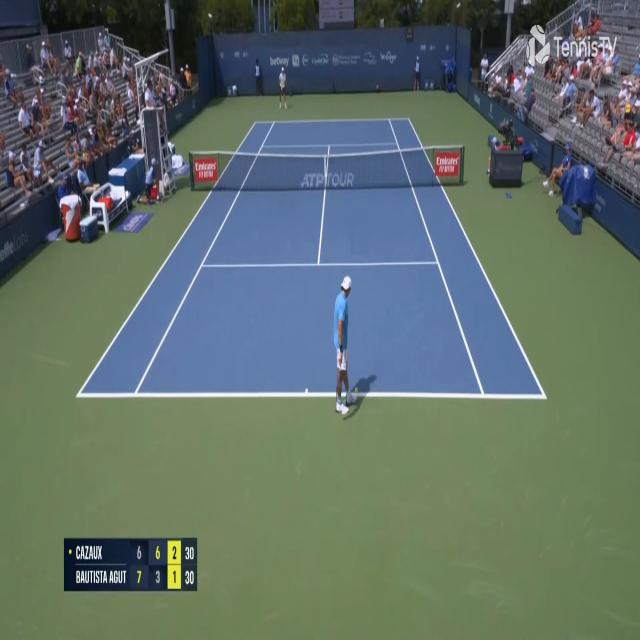tennis-player: (332, 272, 379, 421), (278, 65, 290, 109)
